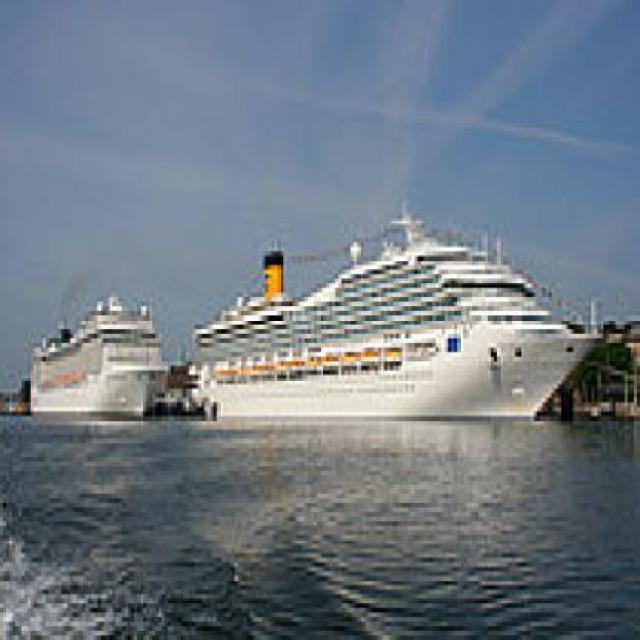cruise: (186, 202, 614, 426), (19, 285, 175, 426)
